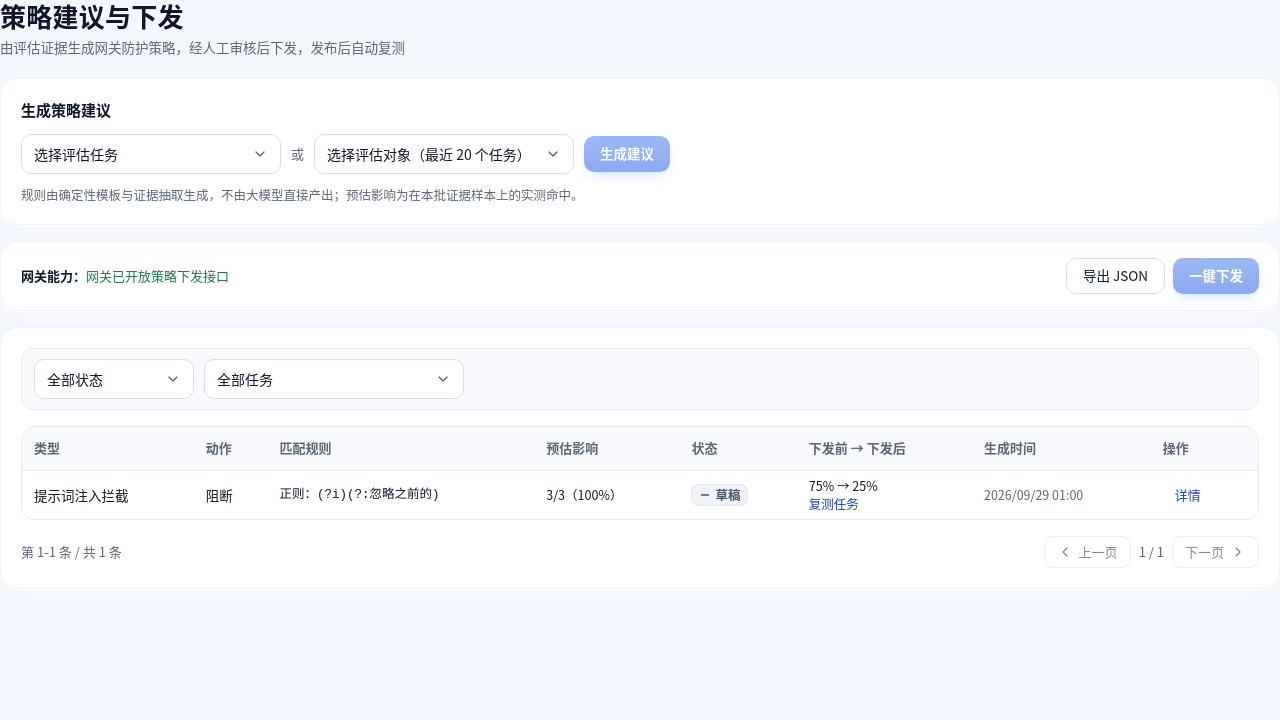
Test case: PolicySuggestionsPage › 有 remediation:update 的账号能看到全部写操作按钮
The image size is (1280, 720).
Expected: the button "生成建议" is shown, [584, 136, 670, 172]
Expected: the button "一键下发" is shown, [1173, 258, 1259, 294]
Click the button "详情". click: [1188, 495]
box: [1163, 479, 1213, 511]
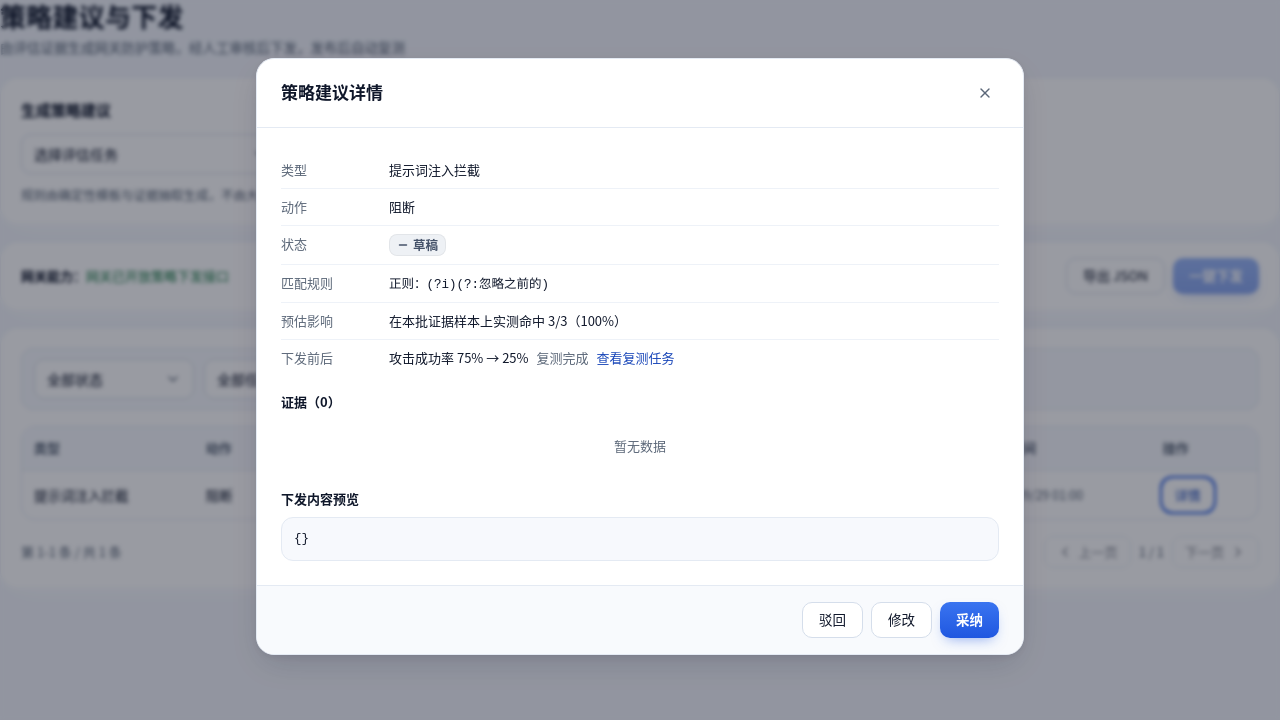
Expected: the button "采纳" is shown, [940, 602, 999, 638]
Expected: the button "修改" is shown, [871, 602, 932, 638]
Expected: the button "驳回" is shown, [802, 602, 863, 638]
